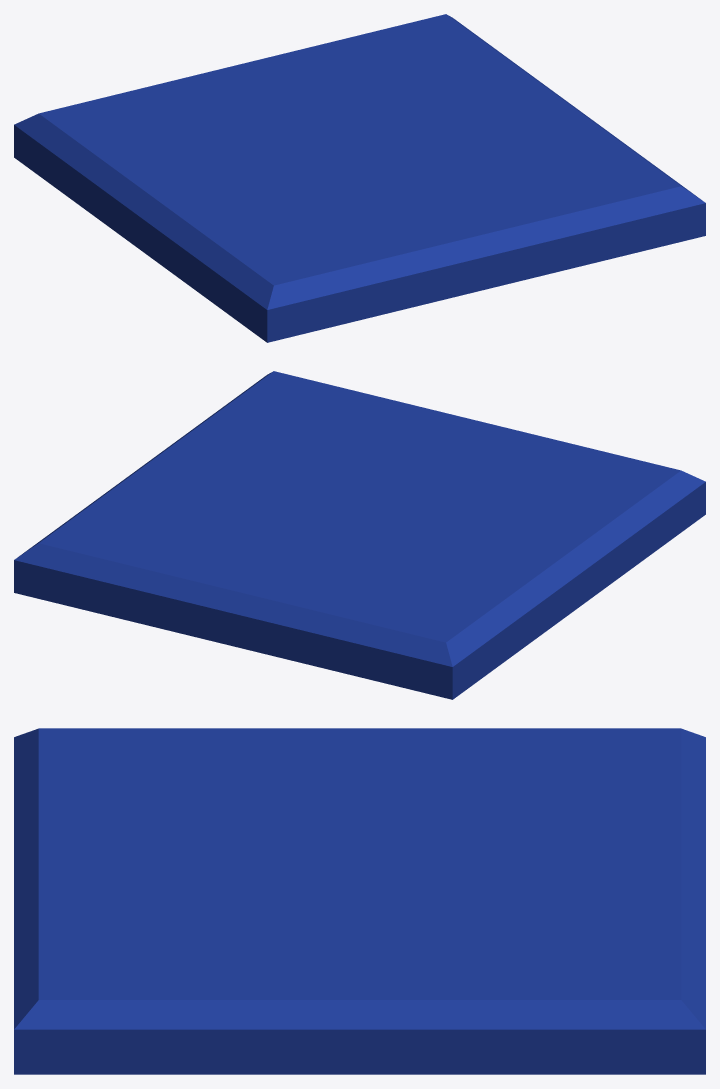
File: floor_tile.glb
3 views of the same model, one above another, from view 1: azimuth 30°, elevation 25°; view 2: azimuth 150°, elevation 25°; view 3: azimuth 270°, elevation 25° (orthographic). The views are drawn at different scales.
Parts seen in each view (by area): view 1: floor_tile_slab; view 2: floor_tile_slab; view 3: floor_tile_slab.
Boxes of the visible parts, <box> form: floor_tile_slab: <box>14,14,705,342</box>; floor_tile_slab: <box>14,371,705,699</box>; floor_tile_slab: <box>14,728,705,1074</box>.
Bounding box in the file's own units: 0.98 × 0.1 × 0.98.
